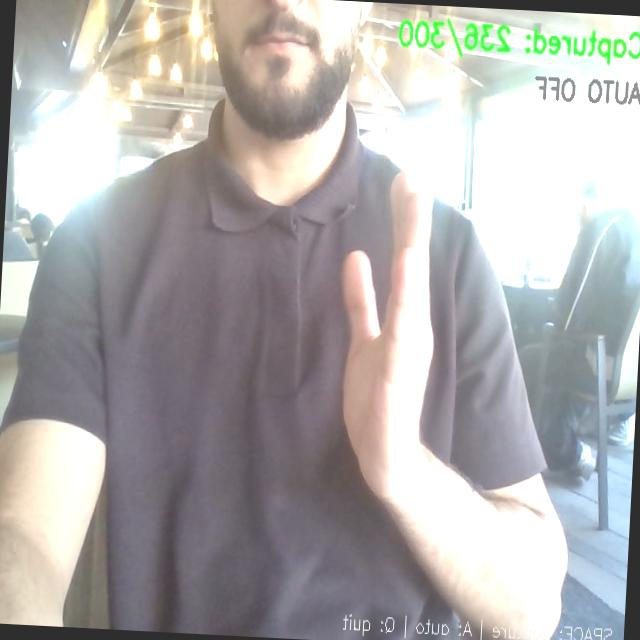Hand: (343, 171, 432, 498)
